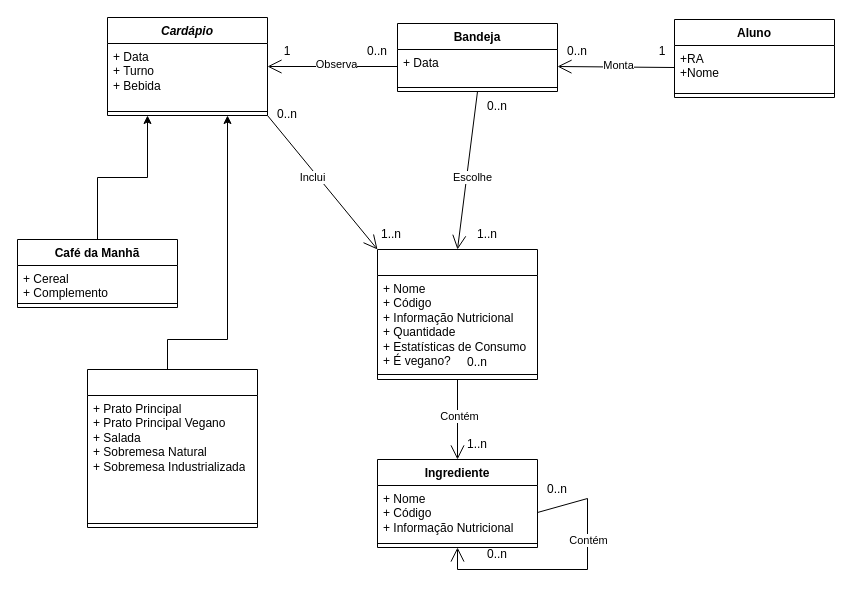
Image size: 852x601. Some labels were removed from this diagram. The box of each missing label's shape, as (x1, y1, x2, y2) in pixels:
Porção: (376, 248, 538, 380)
Refeição: (86, 368, 258, 528)
